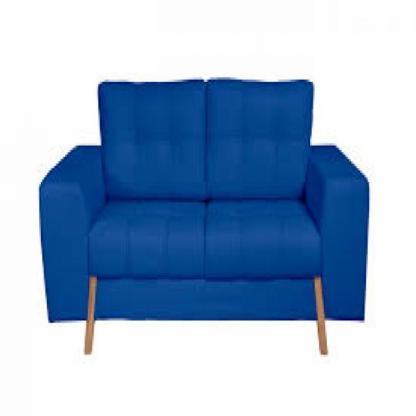Sofa: (30, 61, 394, 379)
